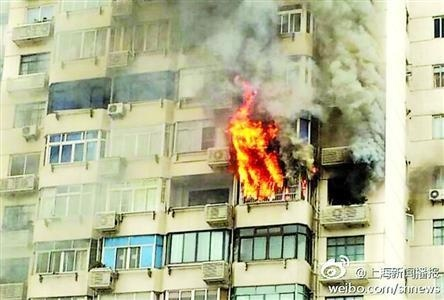fire: (229, 87, 285, 201)
